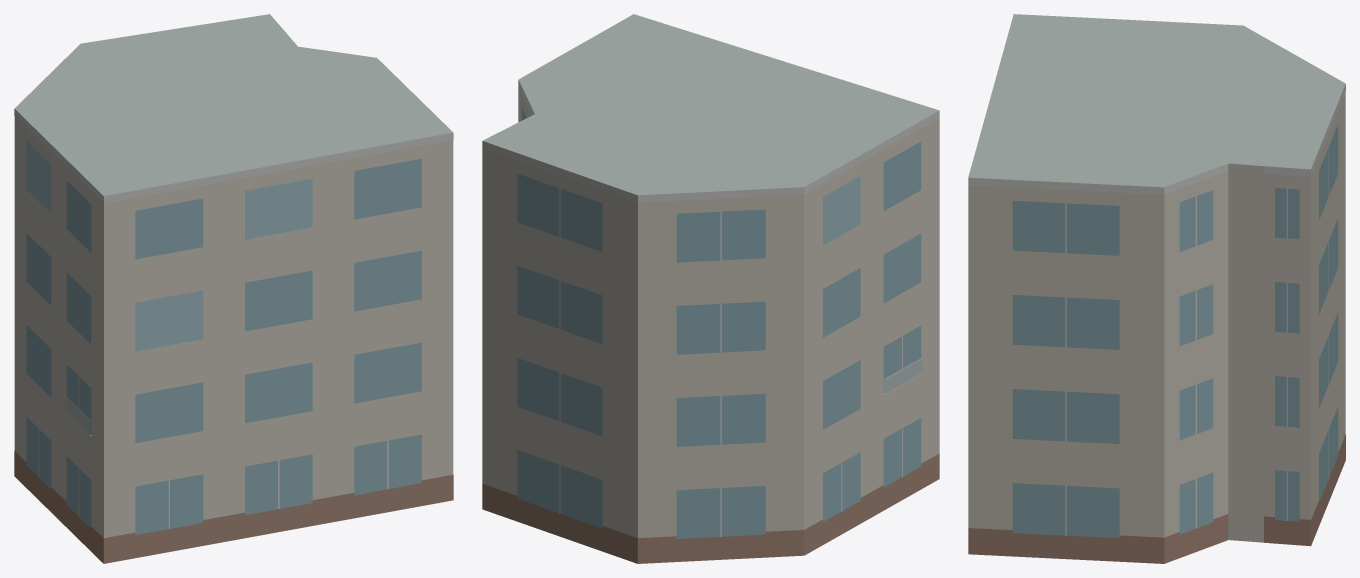
The model's file is residential-1f23a81a-40f5-4600-a61a-58f851b951b2.glb.
3 renders of one model, left to right at view 1: azimuth 30°, elevation 25°; view 2: azimuth 150°, elevation 25°; view 3: azimuth 270°, elevation 25°, orthographic. The views are drawn at different scales.
Visible parts, largest first — view 1: residential-1f23a81a-40f5-4600-a61a-58f851b951b2.tmp; view 2: residential-1f23a81a-40f5-4600-a61a-58f851b951b2.tmp; view 3: residential-1f23a81a-40f5-4600-a61a-58f851b951b2.tmp.
Boxes of the visible parts, x1=… form: residential-1f23a81a-40f5-4600-a61a-58f851b951b2.tmp: x1=14, y1=14, x2=453, y2=563; residential-1f23a81a-40f5-4600-a61a-58f851b951b2.tmp: x1=482, y1=14, x2=939, y2=563; residential-1f23a81a-40f5-4600-a61a-58f851b951b2.tmp: x1=968, y1=14, x2=1345, y2=563.
Size of the model in its own units: 12.05 by 12.2 by 11.1.
